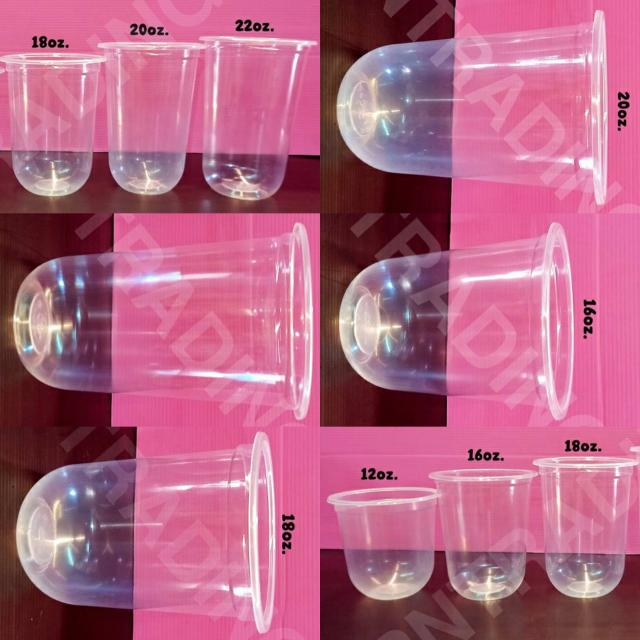Single-Use-Plastic: (14, 224, 313, 419), (337, 11, 607, 205), (16, 432, 275, 632), (339, 222, 574, 419), (201, 36, 316, 199), (99, 42, 203, 195), (0, 52, 105, 196), (534, 456, 638, 599), (430, 469, 537, 601), (328, 488, 438, 599)
